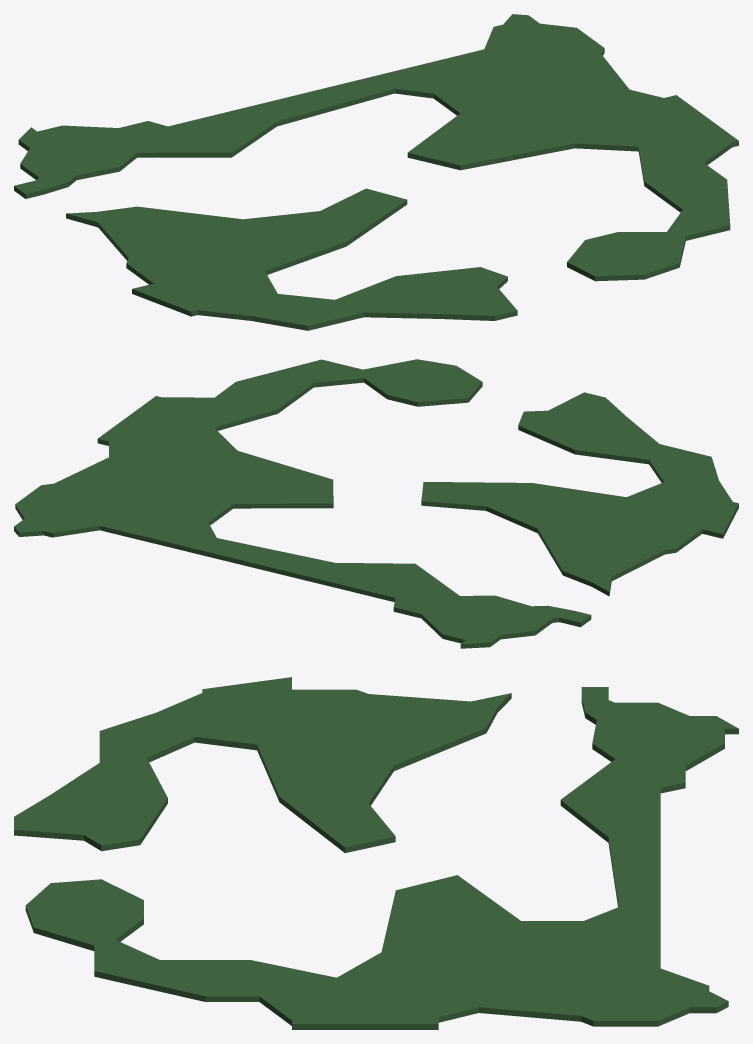
Rendered from GRUP_BOLOTA_ZT1.fbx.
3 renders of one model, top to bottom at view 1: azimuth 30°, elevation 25°; view 2: azimuth 150°, elevation 25°; view 3: azimuth 270°, elevation 25°, orthographic. The views are drawn at different scales.
Parts seen in each view (by area): view 1: x_proval_00_235_1, x_proval_00_230_1, x_proval_00_238_1, x_proval_00_237_1, x_proval_00_225_1, x_proval_00_232_1, x_proval_00_227_1, x_proval_00_226_1, x_proval_00_233_1, x_proval_00_234_1, x_proval_00_240_1, x_proval_00_228_1 (+8 smaller); view 2: x_proval_00_235_1, x_proval_00_230_1, x_proval_00_238_1, x_proval_00_227_1, x_proval_00_237_1, x_proval_00_232_1, x_proval_00_225_1, x_proval_00_226_1, x_proval_00_233_1, x_proval_00_234_1, x_proval_00_228_1, x_proval_00_240_1 (+8 smaller); view 3: x_proval_00_235_1, x_proval_00_232_1, x_proval_00_238_1, x_proval_00_230_1, x_proval_00_227_1, x_proval_00_237_1, x_proval_00_233_1, x_proval_00_225_1, x_proval_00_234_1, x_proval_00_228_1, x_proval_00_240_1, x_proval_00_226_1 (+8 smaller).
Part boxes in pixels (bbox=[...]): x_proval_00_235_1: bbox=[335, 267, 517, 320]; x_proval_00_230_1: bbox=[407, 109, 574, 170]; x_proval_00_238_1: bbox=[66, 206, 242, 260]; x_proval_00_237_1: bbox=[228, 211, 371, 274]; x_proval_00_225_1: bbox=[119, 105, 276, 157]; x_proval_00_232_1: bbox=[626, 95, 738, 168]; x_proval_00_227_1: bbox=[445, 14, 604, 69]; x_proval_00_226_1: bbox=[255, 59, 459, 126]; x_proval_00_233_1: bbox=[641, 163, 730, 240]; x_proval_00_234_1: bbox=[567, 232, 685, 281]; x_proval_00_240_1: bbox=[132, 271, 277, 320]; x_proval_00_228_1: bbox=[433, 64, 561, 115]; x_proval_00_235_1: bbox=[518, 392, 659, 464]; x_proval_00_230_1: bbox=[196, 451, 333, 508]; x_proval_00_238_1: bbox=[537, 522, 664, 596]; x_proval_00_227_1: bbox=[14, 483, 150, 539]; x_proval_00_237_1: bbox=[486, 482, 626, 532]; x_proval_00_232_1: bbox=[97, 396, 247, 447]; x_proval_00_225_1: bbox=[314, 563, 459, 618]; x_proval_00_226_1: bbox=[136, 522, 334, 582]; x_proval_00_233_1: bbox=[215, 359, 363, 422]; x_proval_00_234_1: bbox=[363, 359, 482, 406]; x_proval_00_228_1: bbox=[102, 481, 233, 525]; x_proval_00_240_1: bbox=[627, 480, 738, 538]; x_proval_00_235_1: bbox=[14, 758, 167, 851]; x_proval_00_232_1: bbox=[259, 968, 438, 1029]; x_proval_00_238_1: bbox=[342, 693, 511, 770]; x_proval_00_230_1: bbox=[381, 875, 520, 952]; x_proval_00_227_1: bbox=[581, 946, 728, 1026]; x_proval_00_237_1: bbox=[257, 744, 393, 822]; x_proval_00_233_1: bbox=[94, 940, 290, 1001]; x_proval_00_225_1: bbox=[560, 759, 685, 842]; x_proval_00_234_1: bbox=[25, 879, 143, 950]; x_proval_00_228_1: bbox=[494, 921, 624, 984]; x_proval_00_240_1: bbox=[157, 677, 291, 750]; x_proval_00_226_1: bbox=[584, 837, 660, 945].
Bounding box in the file's own units: 25.93 × 0.2 × 22.89.
